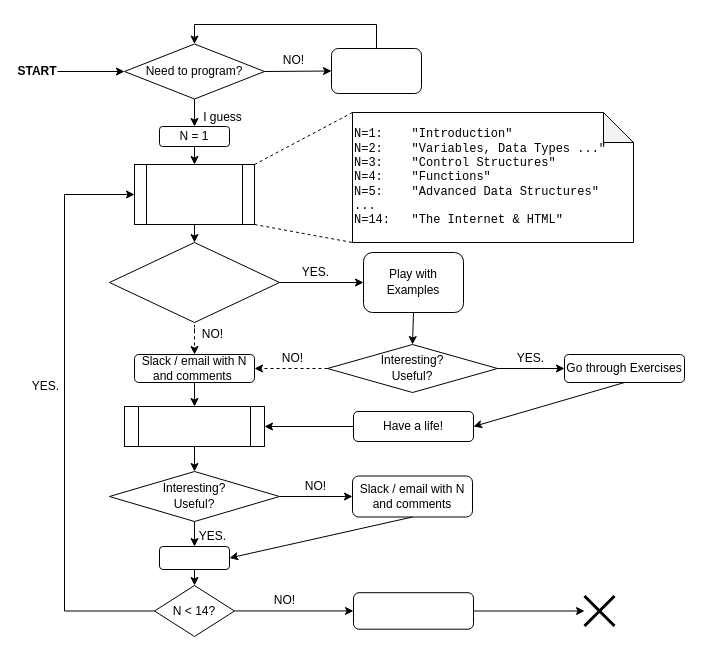
Image size: 702x654. Some labels were removed from this diagram. The centre of each missing label's shape, as x and y in pixels:
"Interesting? Useful? Accessible?" belongs at (194,282).
"N = N + 1" belongs at (194,558).
"Rethink!" belongs at (376,71).
"Slack / email with comments" belongs at (413,610).
"Work through Lab N" belongs at (194,426).
"Work through week N lecture materials" belongs at (194,194).
